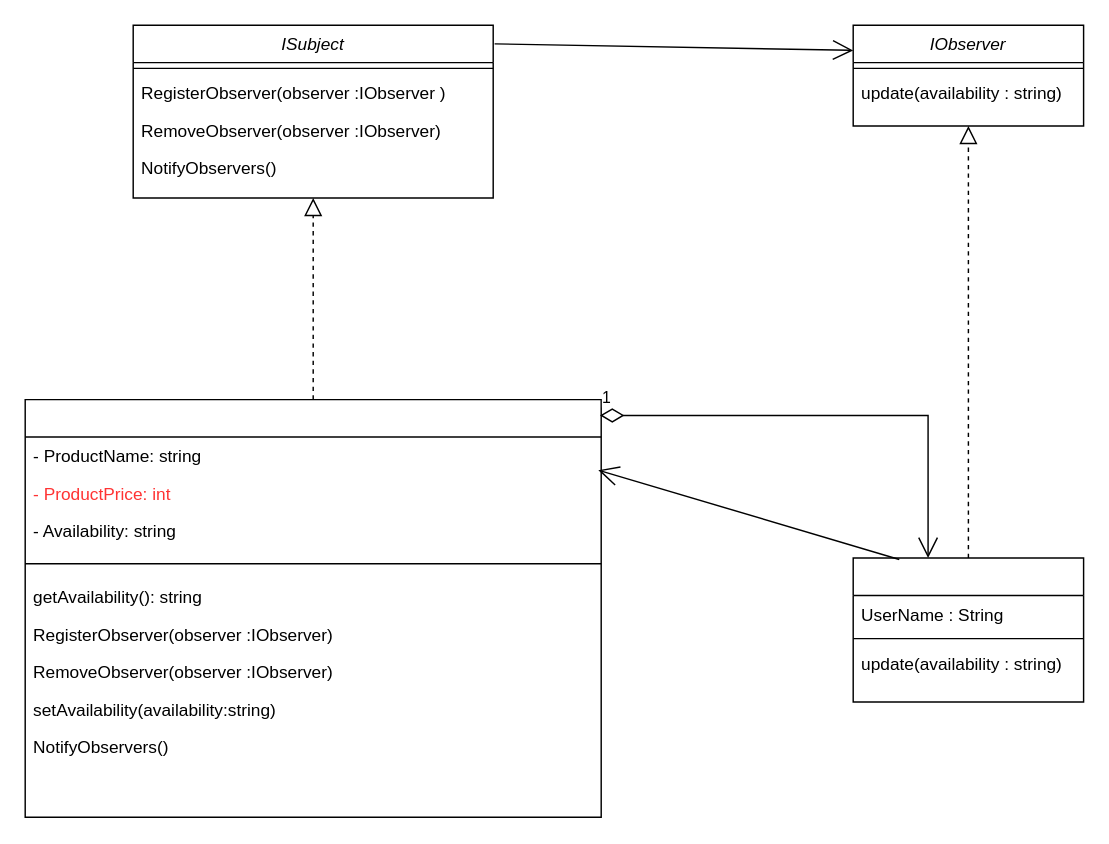
Image size: 1109x844. Some labels were removed from this diagram. The shapes that lost their labels are listed below. From the top down, each one's box as (x1, y1, x2, y2) in pixels, then its label:
(24, 398, 601, 817): Subject
(852, 557, 1084, 702): Observer
